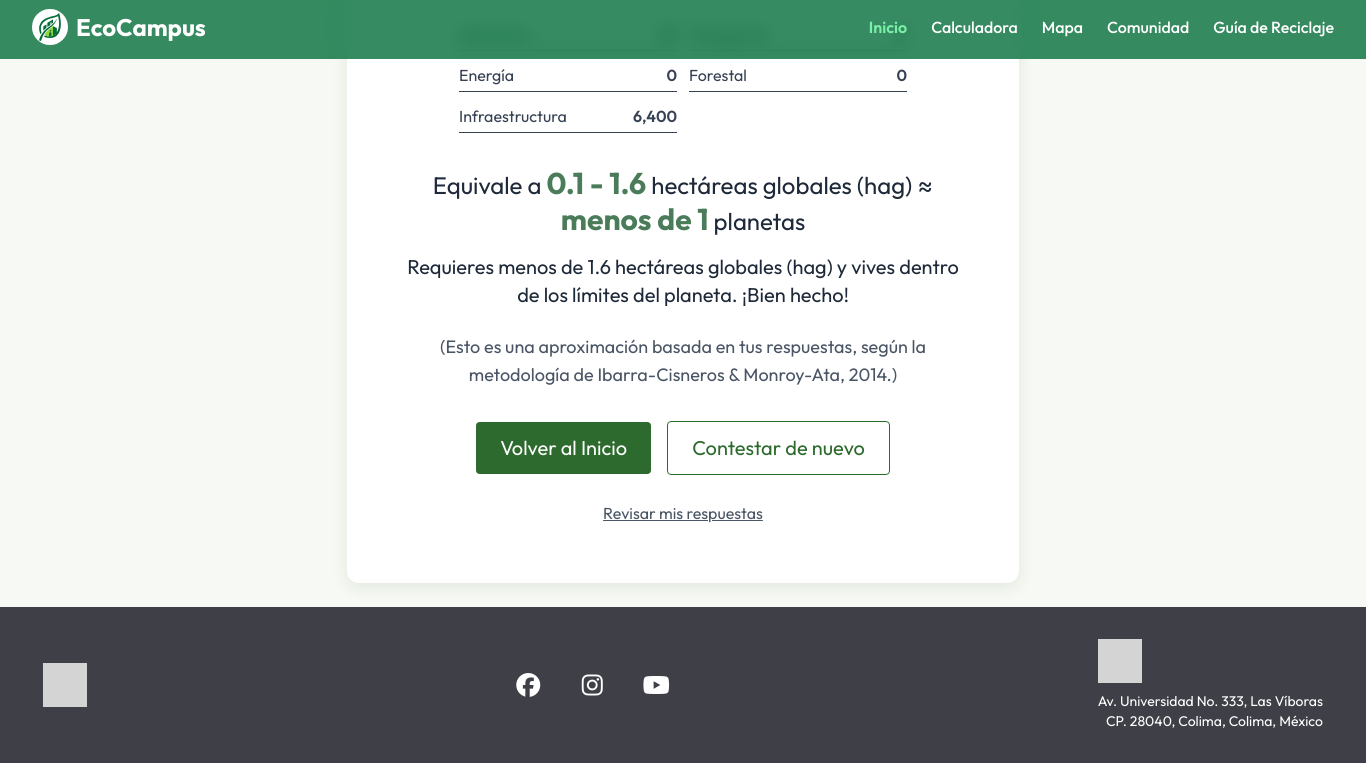
Scenario: Calculadora - persistencia en localStorage › pantalla de resultados restaurada › Revisar mis respuestas vuelve al ultimo paso conservando las respuestas
(page scrolled)
Click the button "Revisar mis respuestas". click: [683, 513]
box: [595, 491, 771, 535]
(page scrolled)
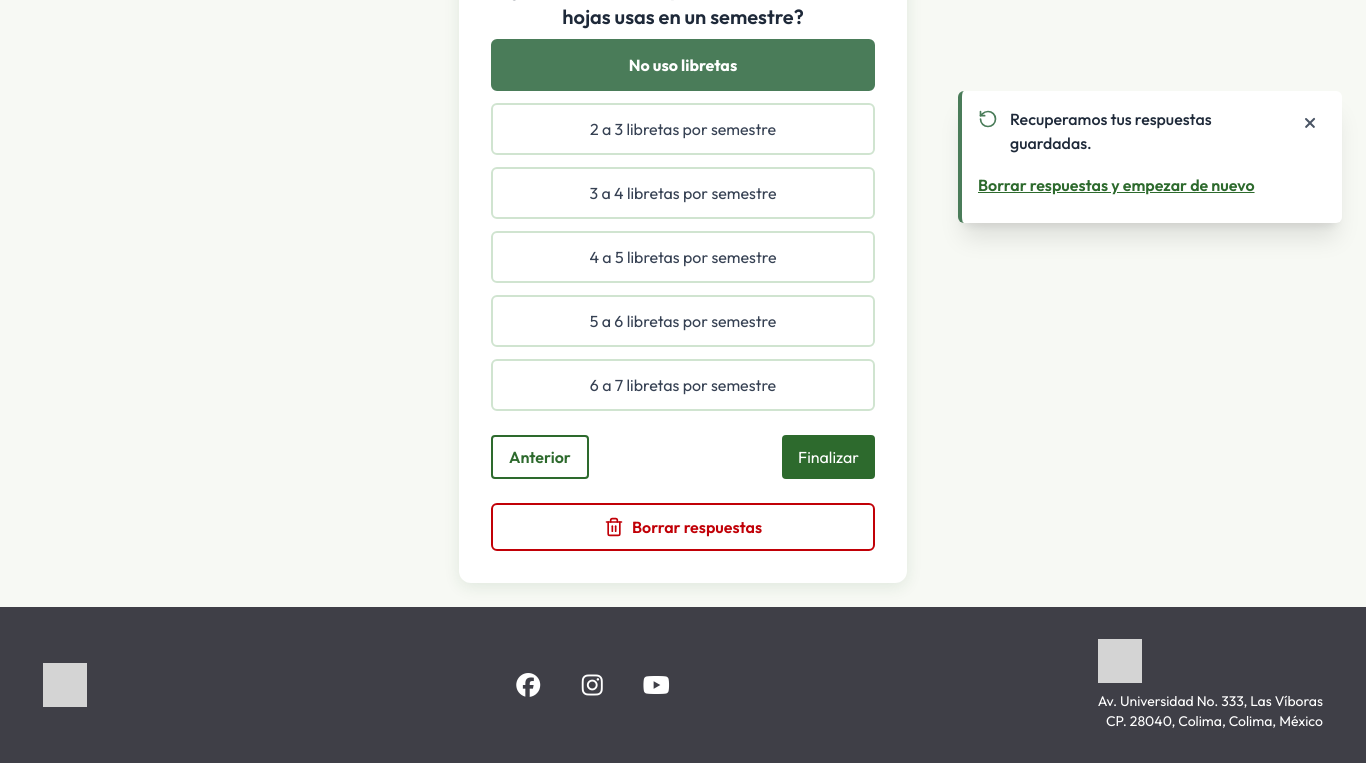
Expected: the button "Finalizar" is enabled, [782, 435, 875, 479]
